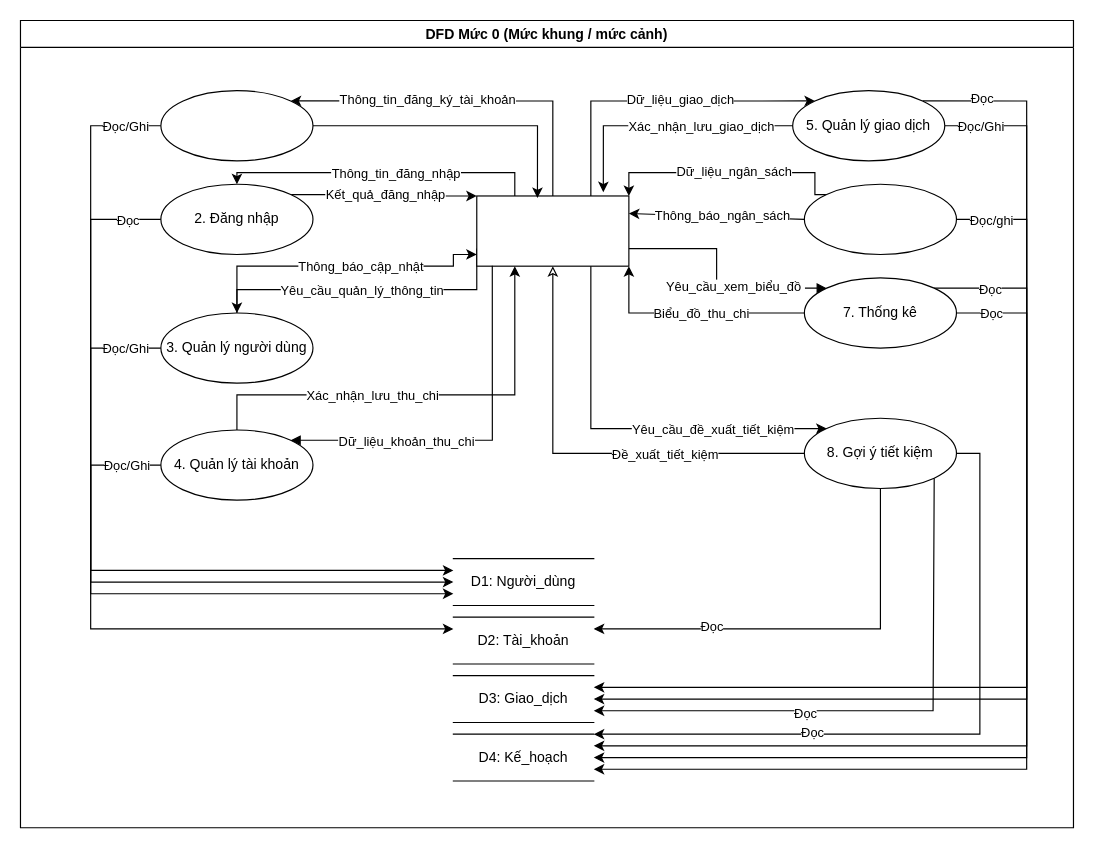
Image size: 1094x848. Some labels were removed from this diagram. Each missing label, with the centre of its shape:
"1. Tạo tài khoản mới" belongs at pixel 236 125.
"6. Lập kế hoạch" belongs at pixel 879 218.
"Người dùng" belongs at pixel 552 230.
